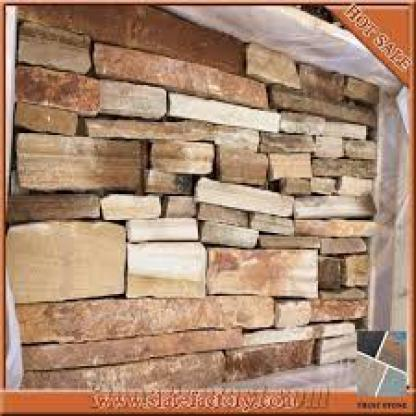Metamorphic_Quartize: (0, 214, 132, 302), (13, 126, 161, 194), (78, 68, 170, 122), (15, 17, 96, 70), (162, 89, 284, 124), (200, 211, 257, 244)
